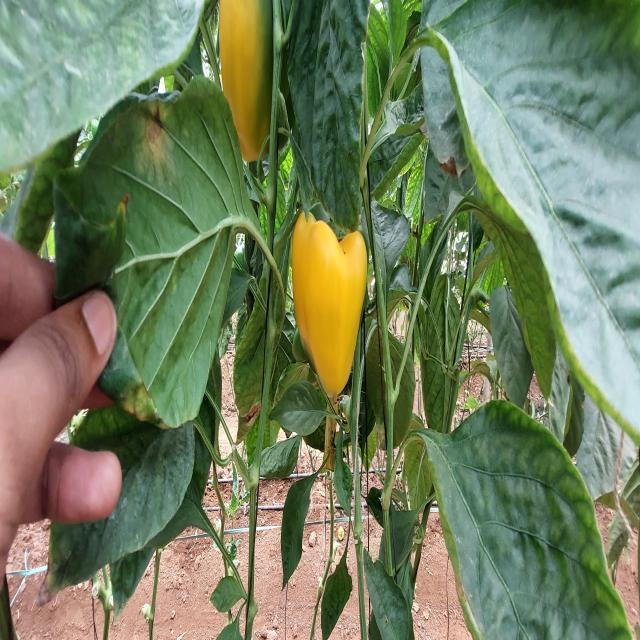Yellow-Ready-to-Harvest: (289, 191, 368, 405), (214, 0, 284, 179)
